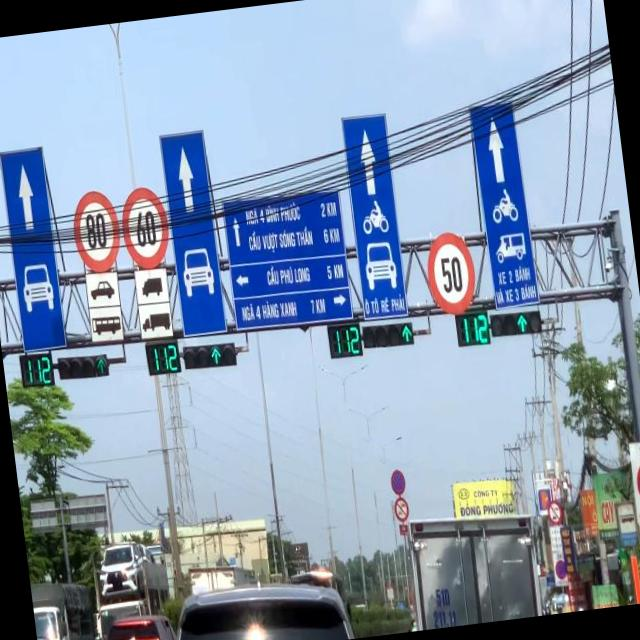P-127: (422, 228, 480, 318)
